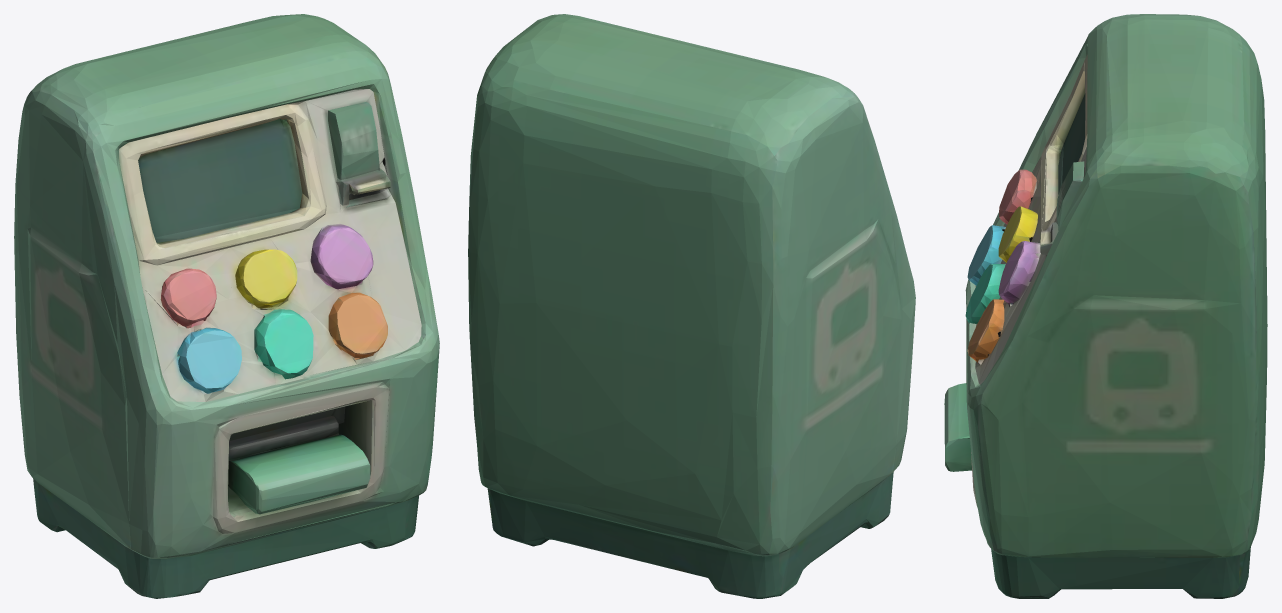
File: ticket_machine.glb
3 renders of one model, left to right at view 1: azimuth 30°, elevation 25°; view 2: azimuth 150°, elevation 25°; view 3: azimuth 270°, elevation 25°, orthographic. The views are drawn at different scales.
Parts seen in each view (by area): view 1: geometry_0; view 2: geometry_0; view 3: geometry_0.
Part boxes in pixels (x1=…): geometry_0: x1=14, y1=14, x2=439, y2=598; geometry_0: x1=468, y1=14, x2=915, y2=598; geometry_0: x1=944, y1=14, x2=1267, y2=598.
Bounding box in the file's own units: 0.7183 × 0.9988 × 0.6358.
1 material, 1 textured.
